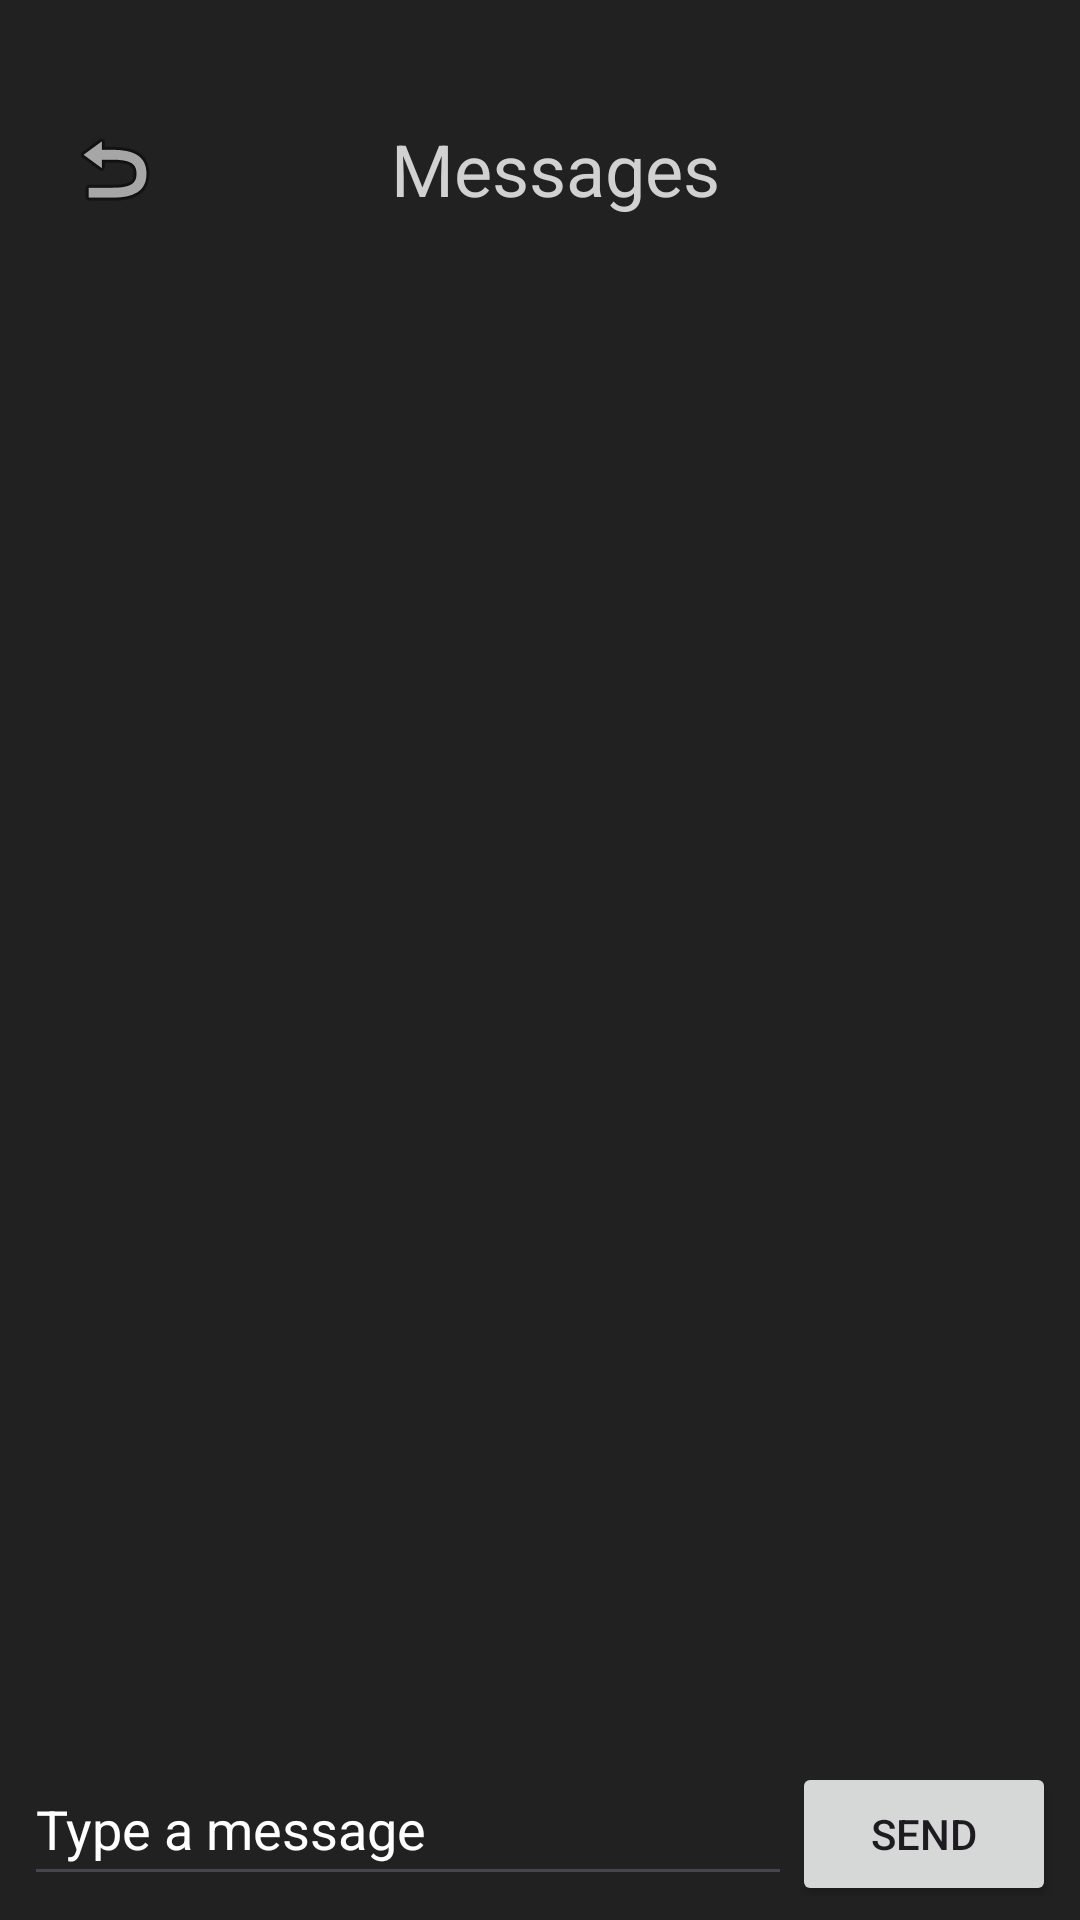

Icons on this 1080*1920 Android screen, each with its box as box(x1, y1, x2, y2):
revert: box(84, 141, 147, 198)
